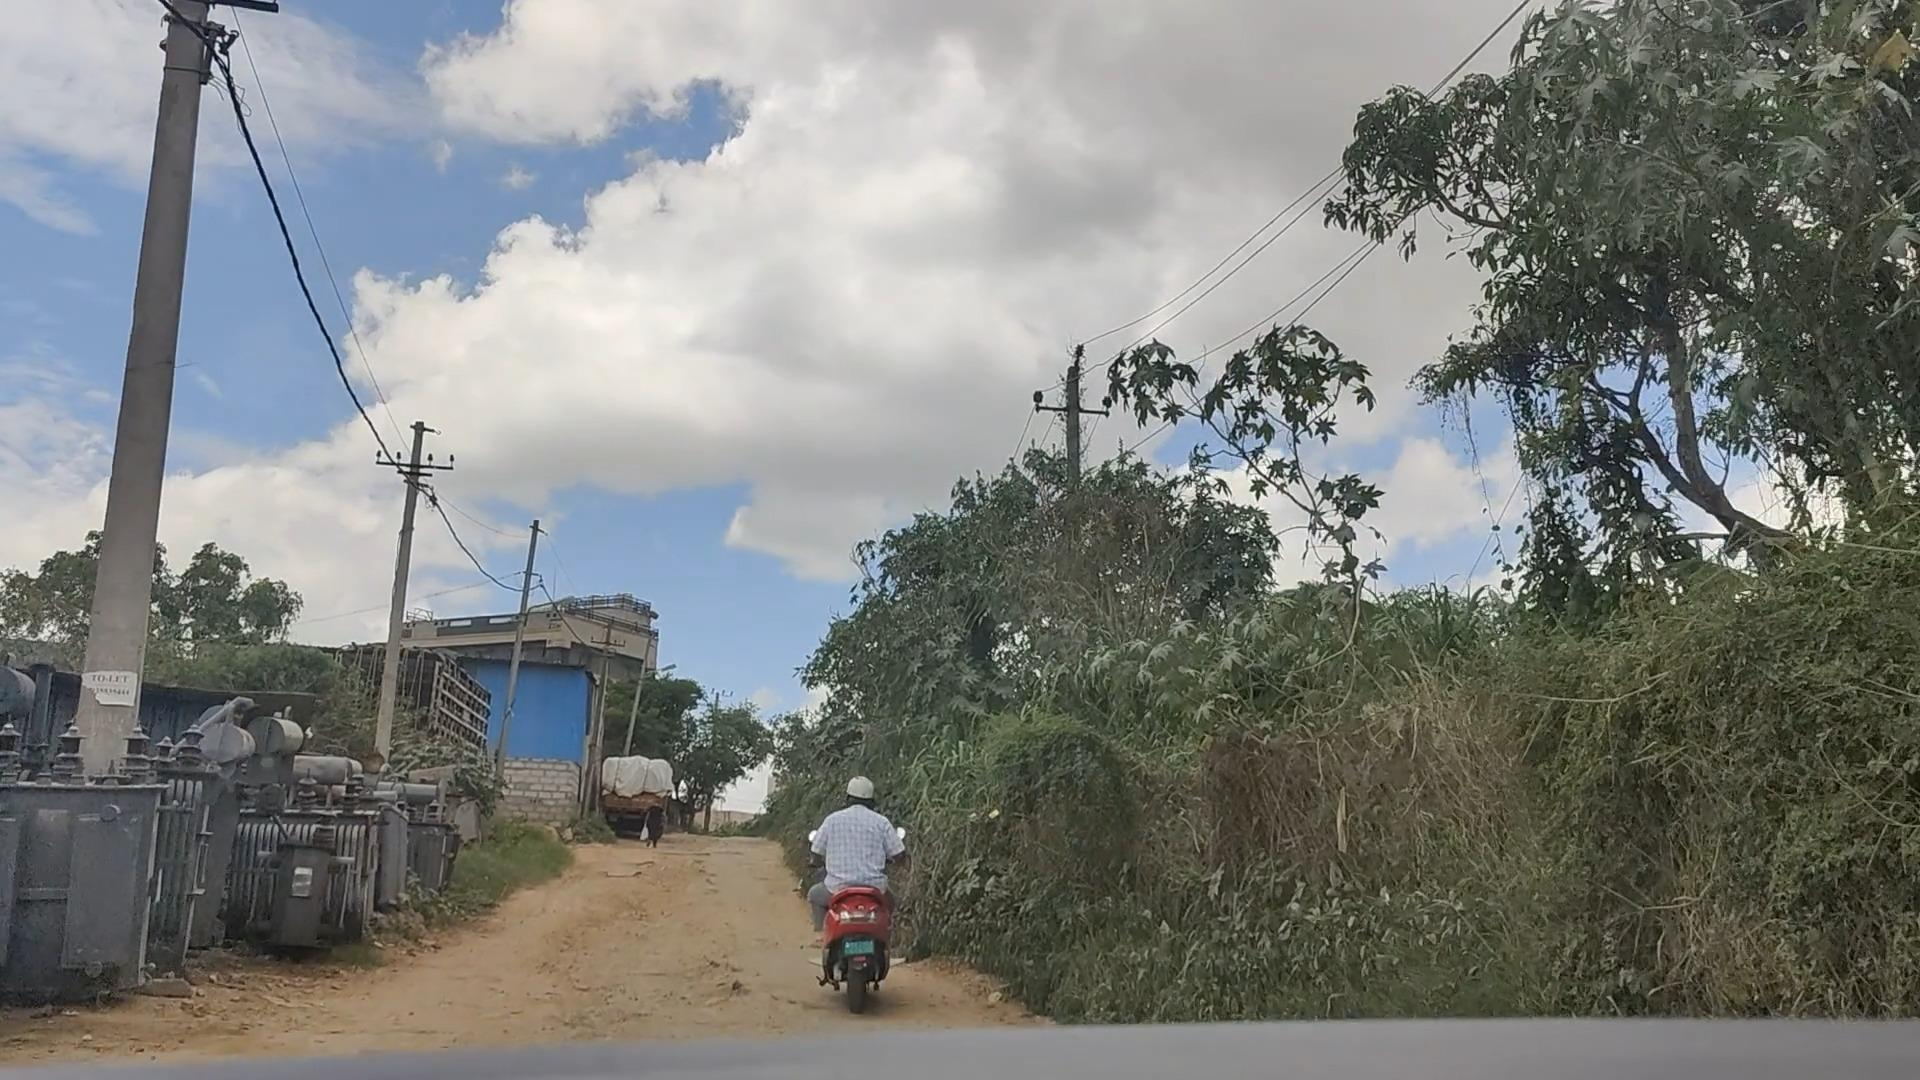HMV: (589, 752, 690, 870)
LMV: (798, 773, 924, 1017)
UnsurfacedRoad: (487, 889, 766, 1027)
